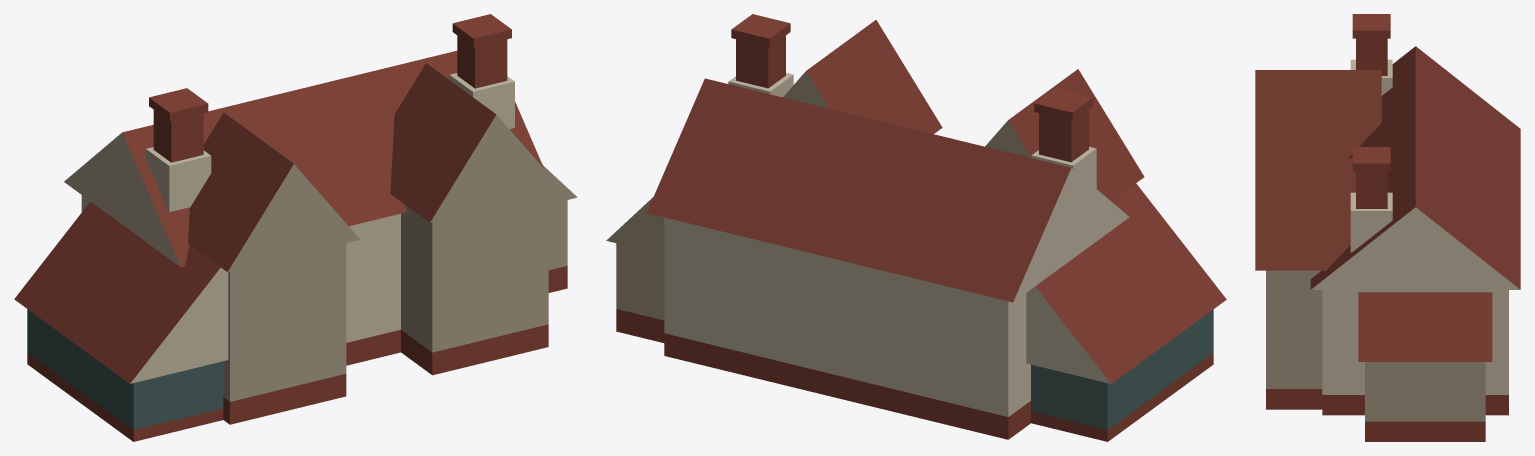
The model's file is test-hudec-topology-a-roof-chimneys-massing.glb.
3 renders of one model, left to right at view 1: azimuth 30°, elevation 25°; view 2: azimuth 150°, elevation 25°; view 3: azimuth 270°, elevation 25°, orthographic. The views are drawn at different scales.
Parts seen in each view (by area): view 1: test-hudec-topology-a-roof-chimneys-massing; view 2: test-hudec-topology-a-roof-chimneys-massing; view 3: test-hudec-topology-a-roof-chimneys-massing.
Boxes of the visible parts, x1=… form: test-hudec-topology-a-roof-chimneys-massing: x1=14, y1=14, x2=577, y2=441; test-hudec-topology-a-roof-chimneys-massing: x1=606, y1=14, x2=1226, y2=441; test-hudec-topology-a-roof-chimneys-massing: x1=1255, y1=14, x2=1520, y2=441.
Size of the model in its own units: 13.28 by 7.12 by 6.83.
